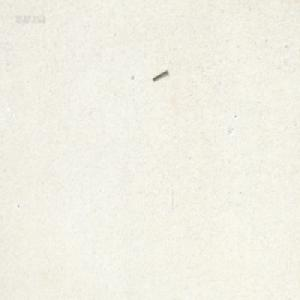Bolt: (151, 70, 167, 82)
